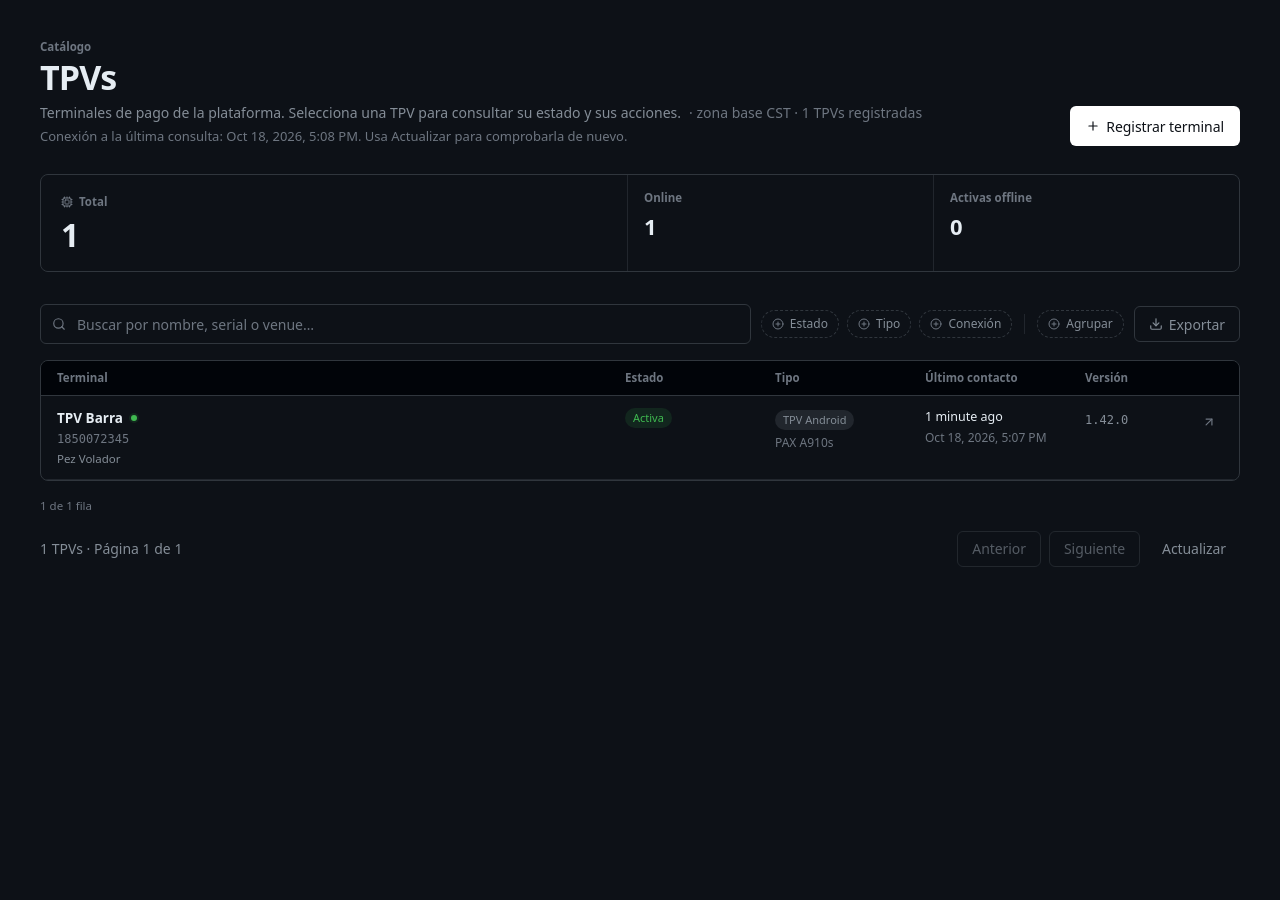
Test: TerminalsPage › muestra el view por venue cuando groupBy=venue está activo
The image size is (1280, 900).
Expected: the text "TPV Barra" is shown, left=57, top=408, right=123, bottom=428
Abrir el filter pill de "Agrupar"
Step 1. Click the button "Agrupar" → (1081,324), box left=1037, top=310, right=1124, bottom=338
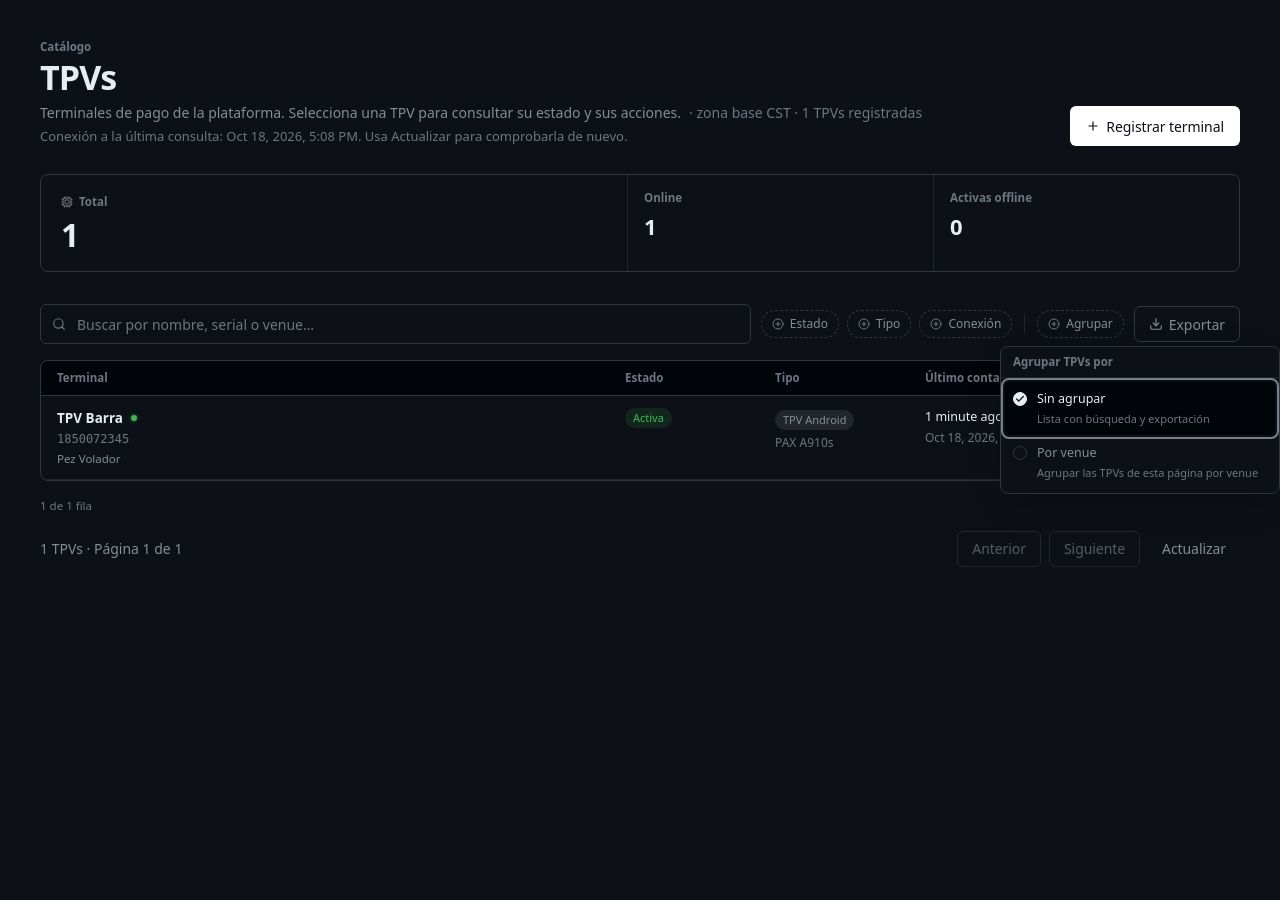
Result: the text "Por venue" is shown
Seleccionar la opción de venue
Step 2. Click the text "Por venue" → (1067,452), box left=1037, top=444, right=1096, bottom=461
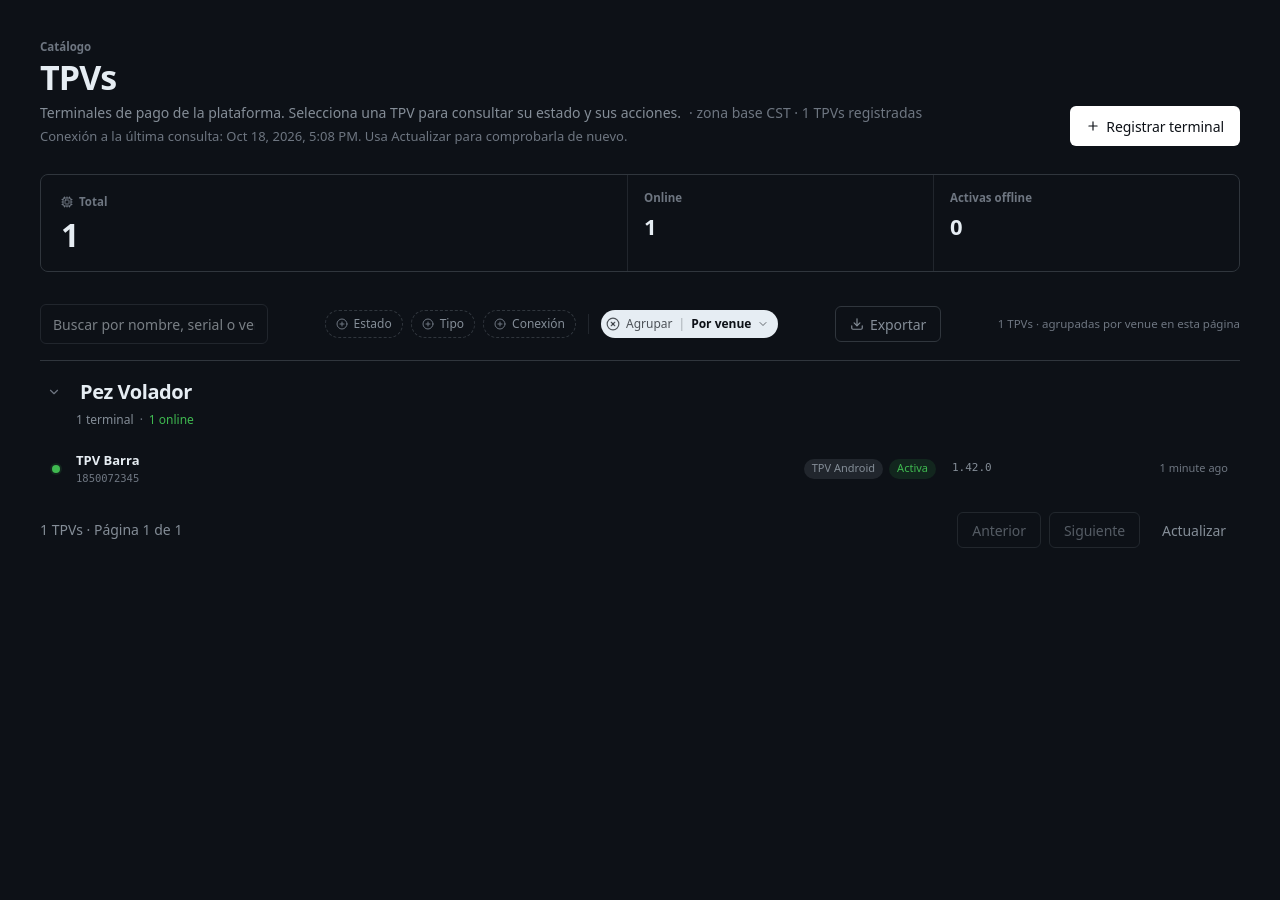
Result: the text "1 TPVs · agrupadas por venue en esta página" is shown at left=998, top=316, right=1240, bottom=333
